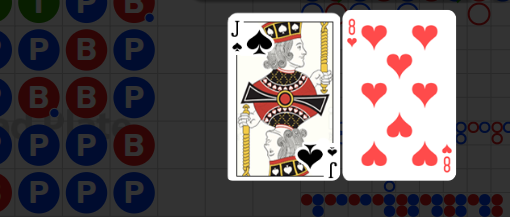8H: (440, 142, 454, 174)
JS: (295, 132, 339, 179), (228, 12, 272, 58)
